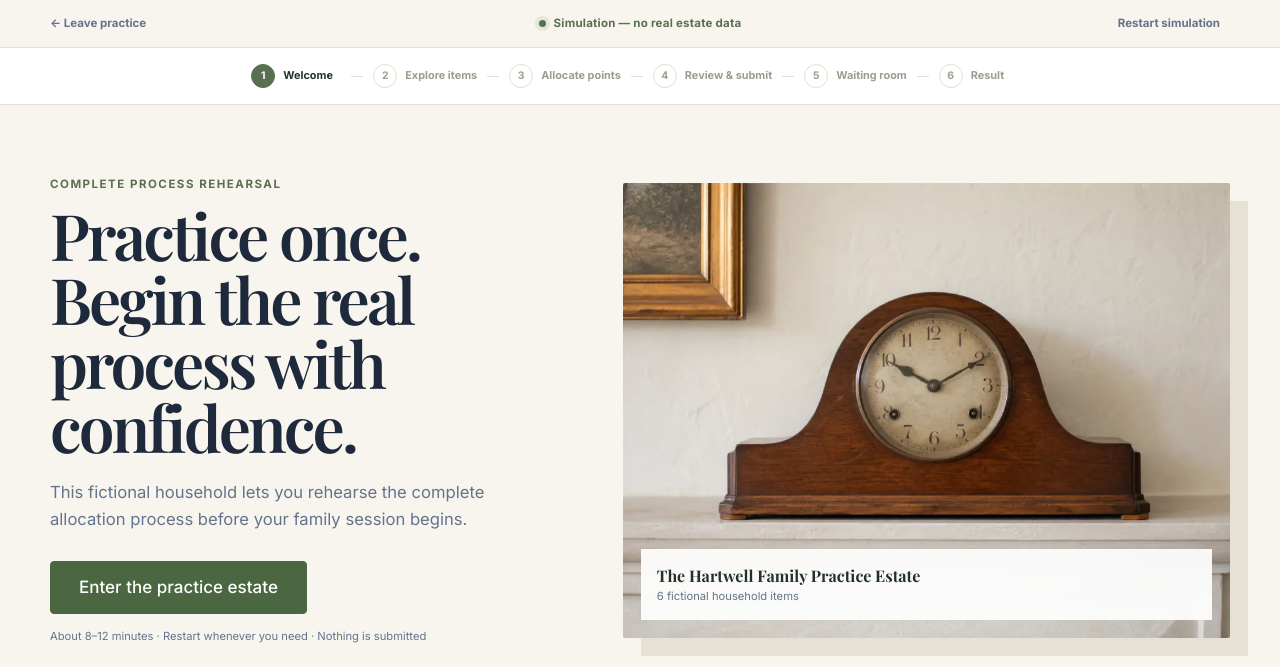
Test: AllocationPracticeRoom journey › gates review until exactly 1,000 points are allocated
Click the button "Enter the practice estate".
click(178, 588)  # box [50, 561, 307, 614]
(page scrolled)
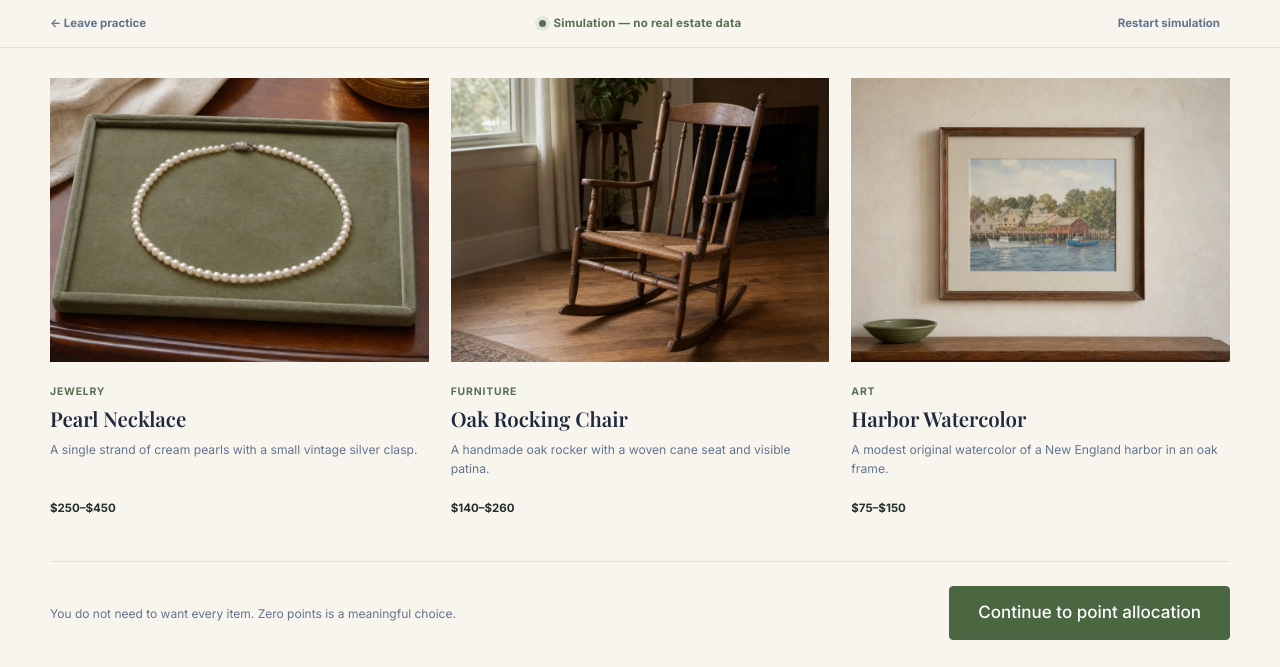
Click the button "Continue to point allocation".
click(1090, 613)  # box [949, 586, 1230, 640]
(page scrolled)
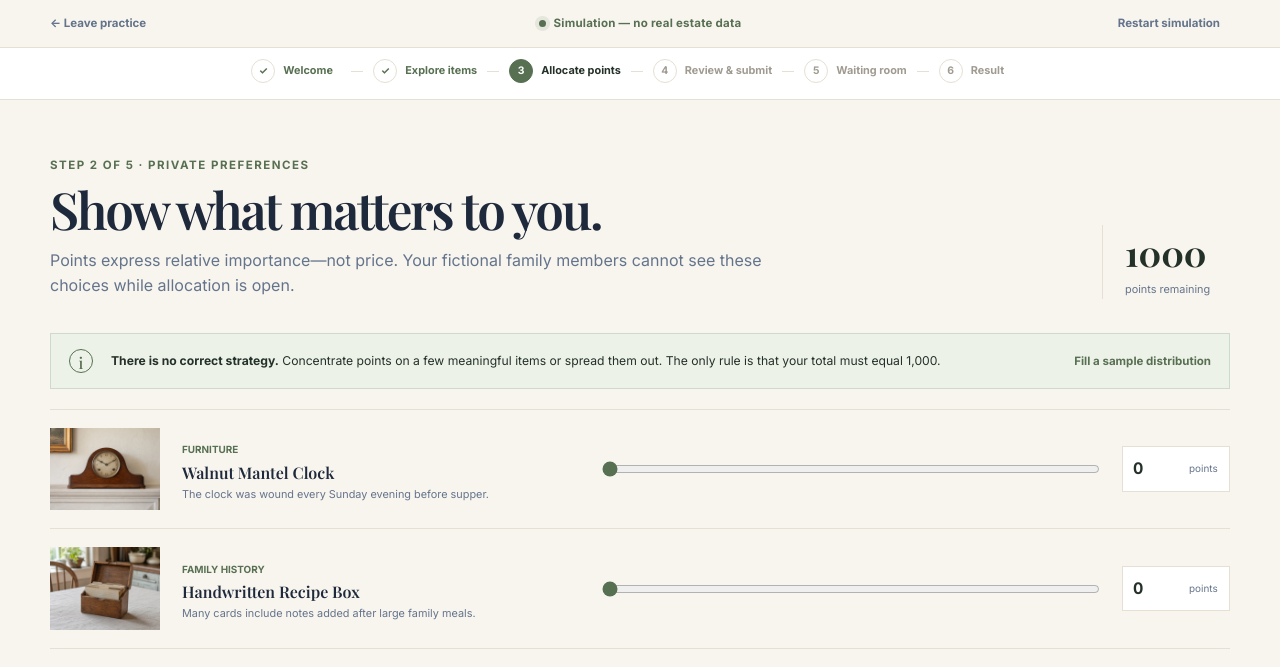
Click the button "Fill a sample distribution".
click(1143, 361)  # box [1074, 352, 1211, 370]
(page scrolled)
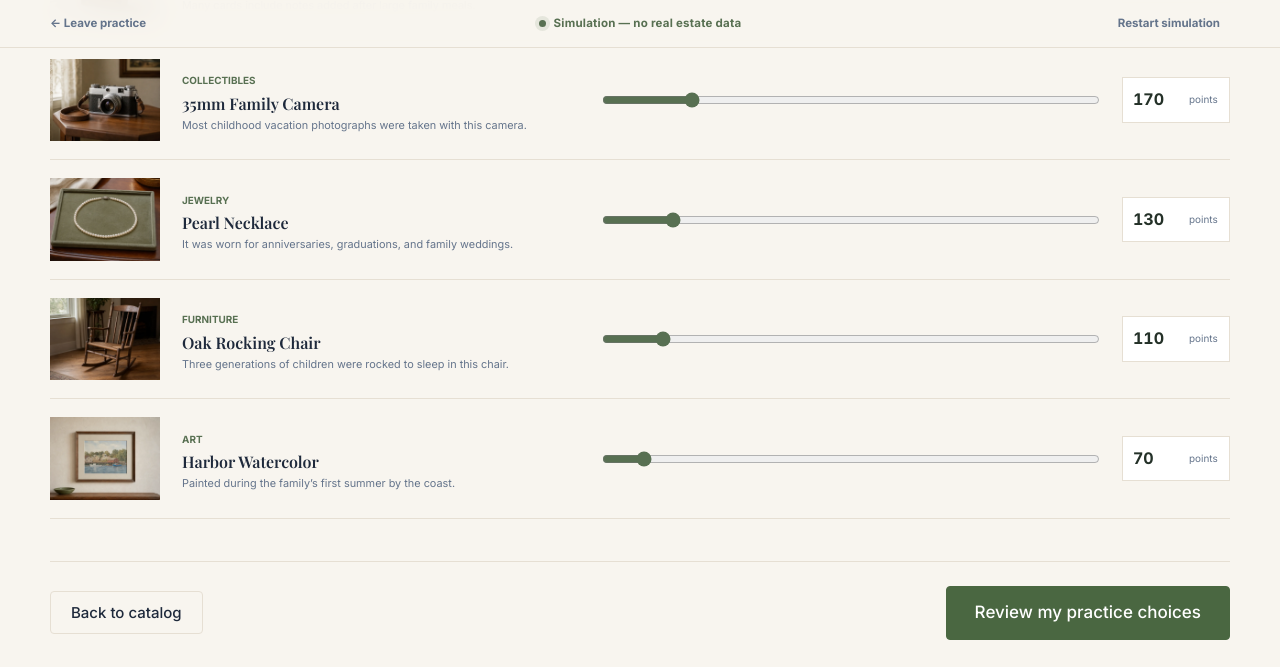
Now the button "Review my practice choices" is enabled, box [946, 586, 1230, 640]
